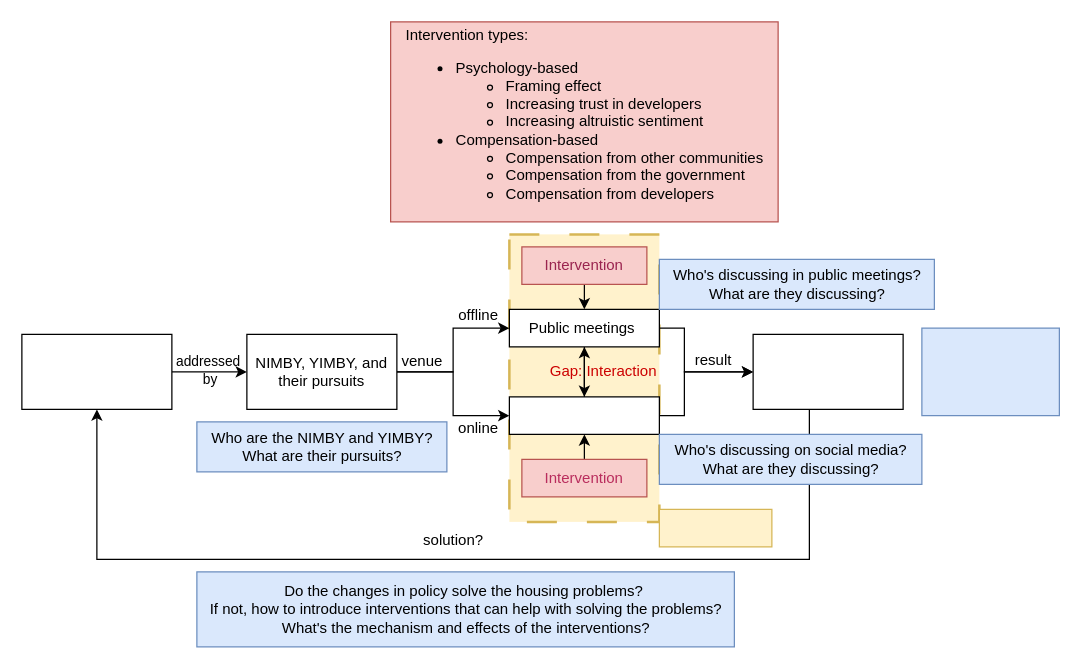
Image size: 1081x669. Some labels were removed from this diagram. The shapes that lost their labels are listed below. From the top down, each one's box as (x1, y1, x2, y2) in pixels, then its label:
(21, 333, 172, 409): Current housing problems in the US
(752, 333, 903, 409): Changes in policy
(921, 327, 1059, 416): How do the discussions lead to changes in policy?
(508, 396, 659, 434): Social media
(658, 508, 772, 547): Focus of the proposed study
